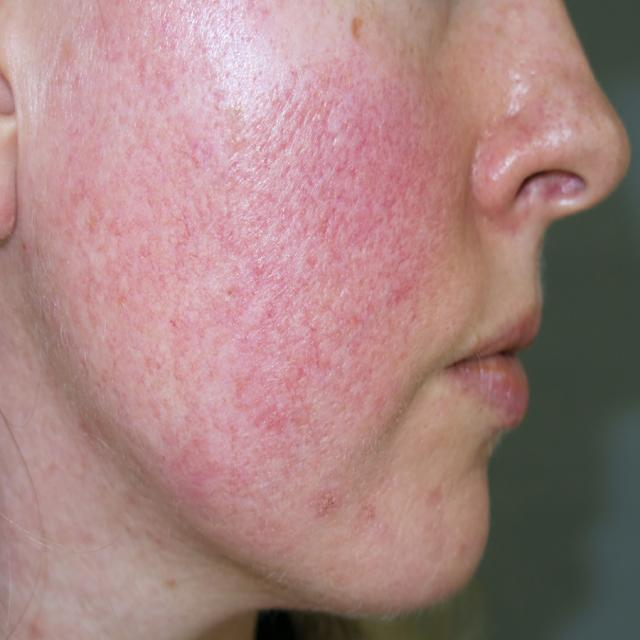redness: (86, 63, 442, 489)
